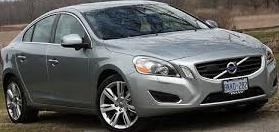Cars: (4, 3, 278, 131)
